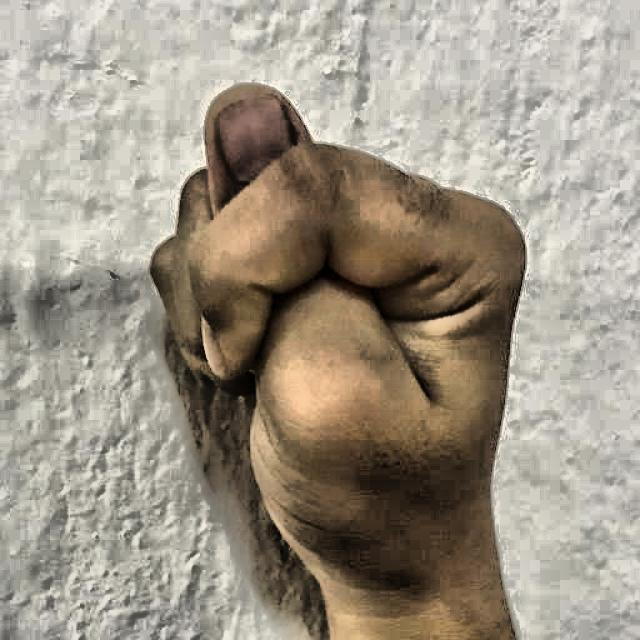Ta: (110, 57, 549, 640)
